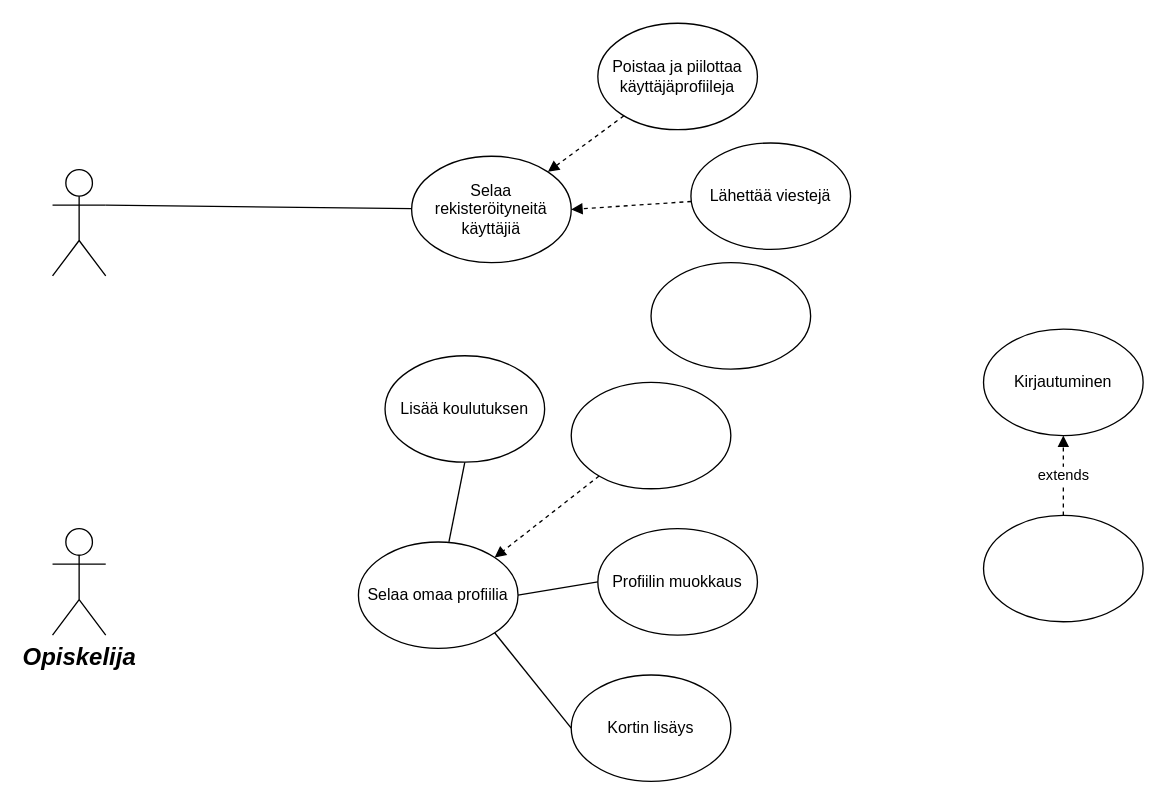
This 1166x805 diagram has some shape labels left out. The shapes that lost their labels are listed below. From the top down, each one's centre as x and y in pixels, then its label:
(78,222): Ylläpitäjä
(730,315): Tekee hakuja
(650,435): Lisää työkokemuksen
(1062,568): Rekisteröityminen
